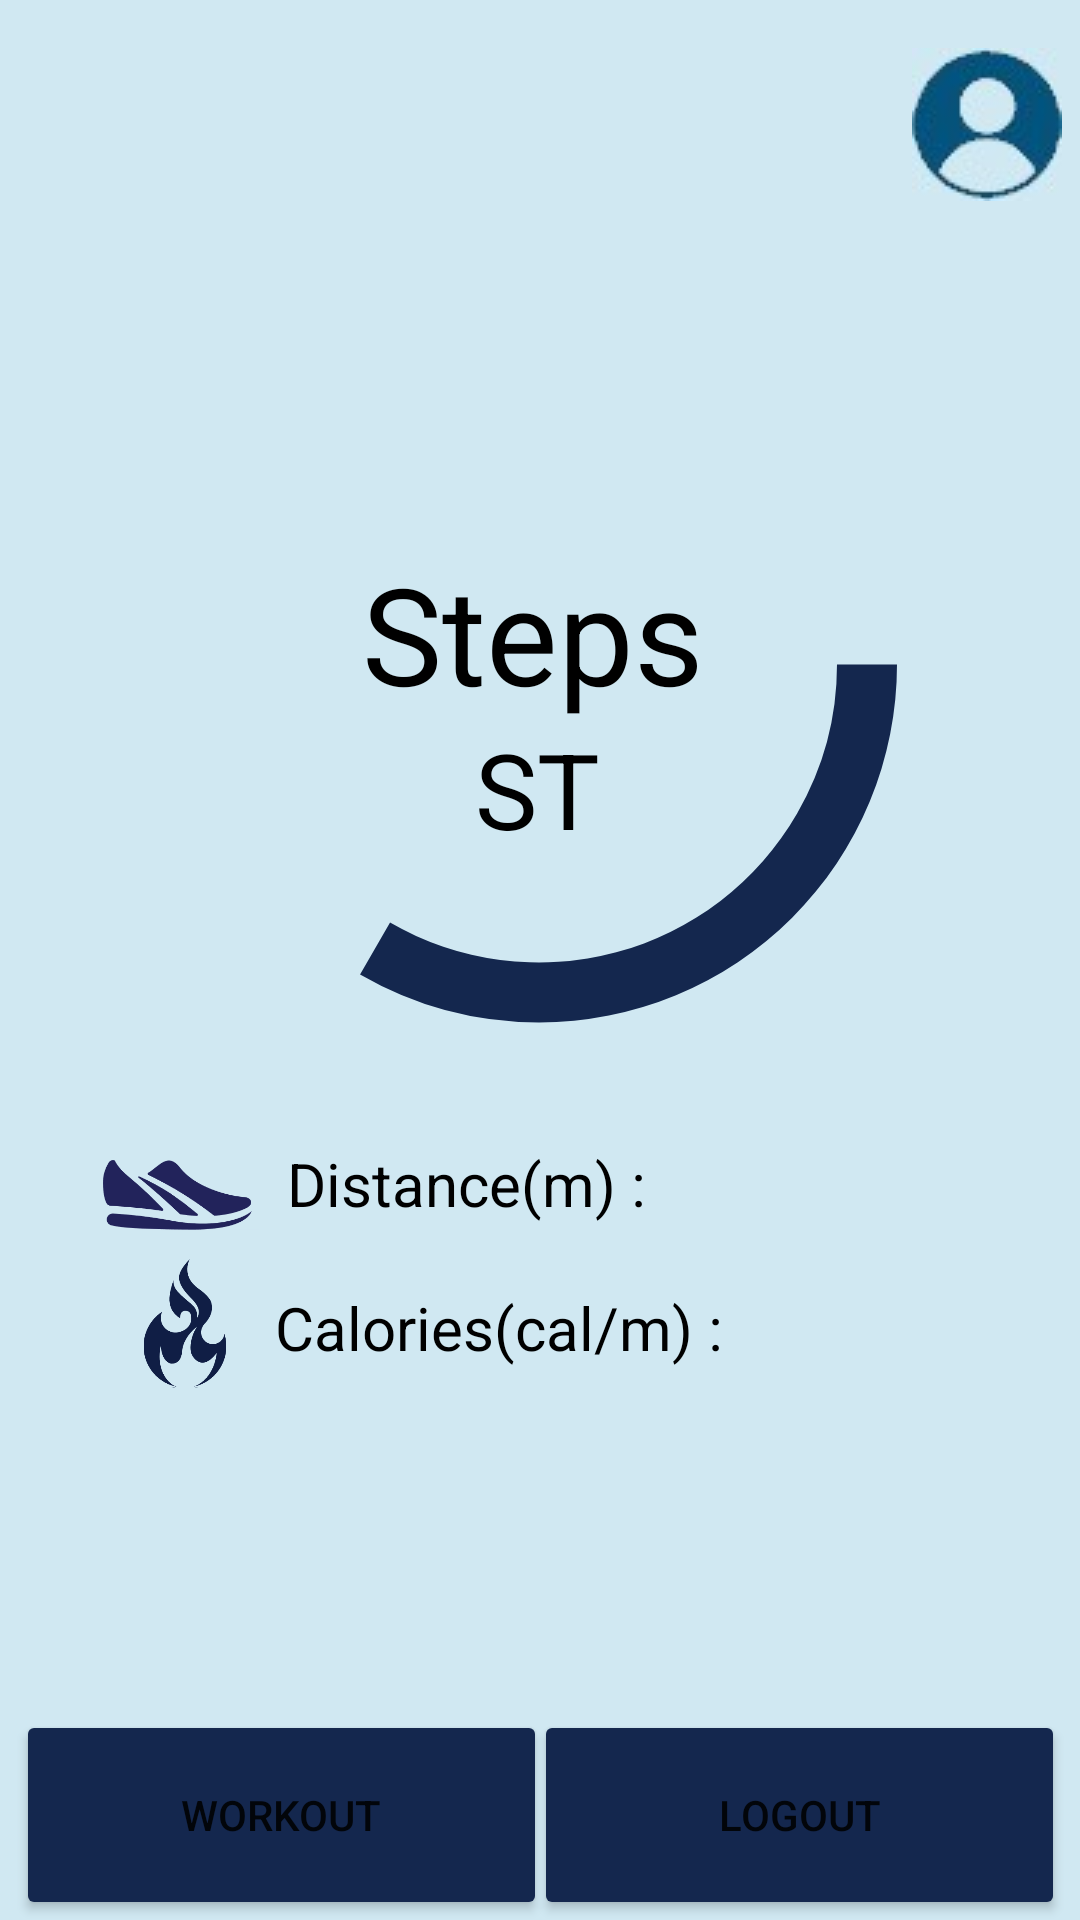

Where to tap for icons on this 1080*1920 app screen, as (x=x, y=y):
fire: (x=185, y=1323)
userr: (x=987, y=125)
walk: (x=177, y=1195)
